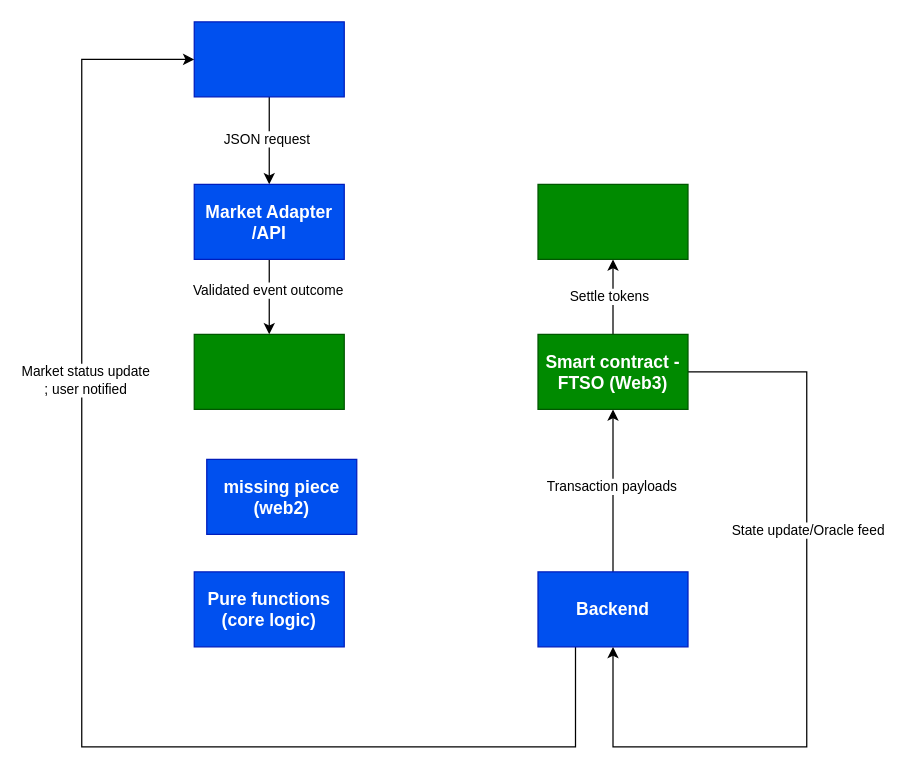
Some shapes in this 906 by 779 pixel diagram are drawn without their labels. Each missing label, with the centre of its shape:
Oracle - FDC: the point at 268,371
Token Collateral Layer: the point at 612,221
Web2 UI/Frontend: the point at 268,59
